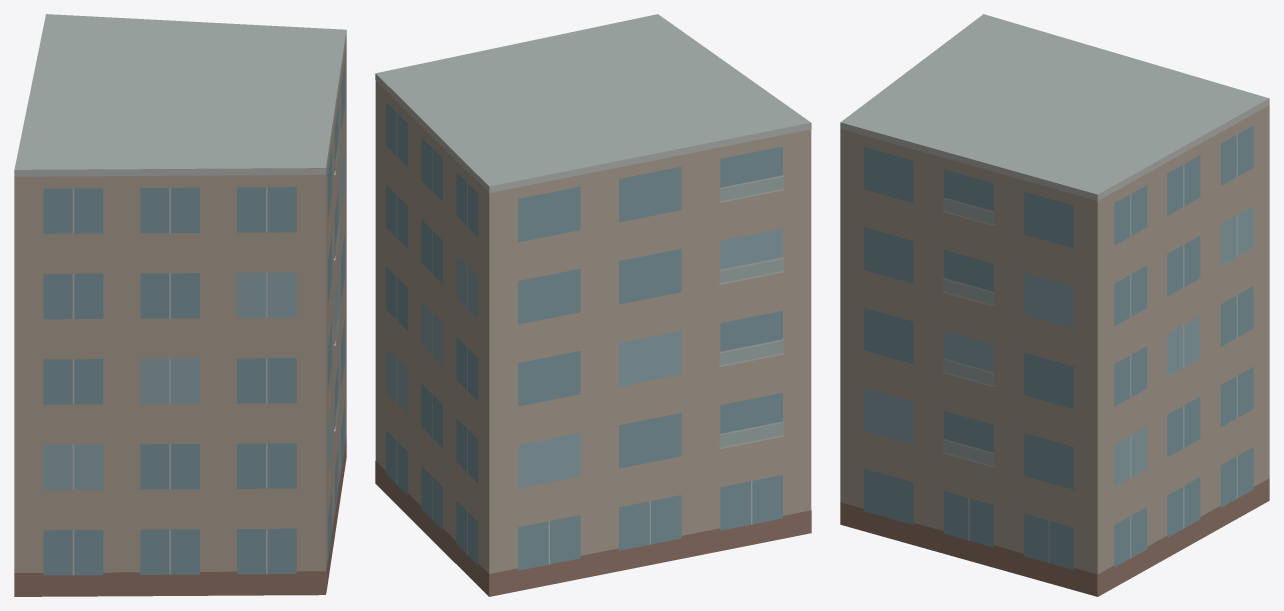
The model's file is survey-upis-32543009.glb.
3 views of the same model, side by side, from view 1: azimuth 30°, elevation 25°; view 2: azimuth 150°, elevation 25°; view 3: azimuth 270°, elevation 25° (orthographic). The views are drawn at different scales.
Parts seen in each view (by area): view 1: survey-upis-32543009.tmp; view 2: survey-upis-32543009.tmp; view 3: survey-upis-32543009.tmp.
Boxes of the visible parts, left/top/right/bottom form: survey-upis-32543009.tmp: left=14, top=14, right=346, bottom=596; survey-upis-32543009.tmp: left=375, top=14, right=811, bottom=596; survey-upis-32543009.tmp: left=840, top=14, right=1269, bottom=596.
Size of the model in its own units: 14.69 by 15.25 by 14.75.
